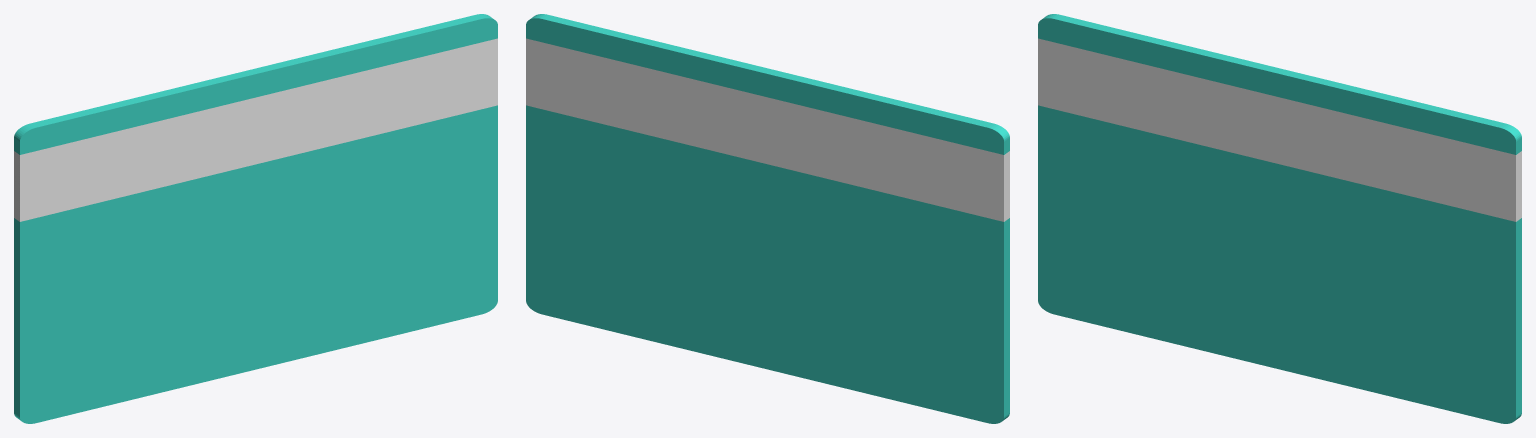
File: SM_Keycard.fbx
The picture shows the model from 3 angles, left to right: view 1: azimuth 30°, elevation 25°; view 2: azimuth 150°, elevation 25°; view 3: azimuth 330°, elevation 25°; orthographic projection.
Parts seen in each view (by area): view 1: SM_Keycard; view 2: SM_Keycard; view 3: SM_Keycard.
Part boxes in pixels (x1,y1,x2,y2): SM_Keycard: [14, 14, 497, 423]; SM_Keycard: [526, 14, 1009, 423]; SM_Keycard: [1038, 14, 1521, 423].
Bounding box in the file's own units: 94.64 × 55.89 × 2.
